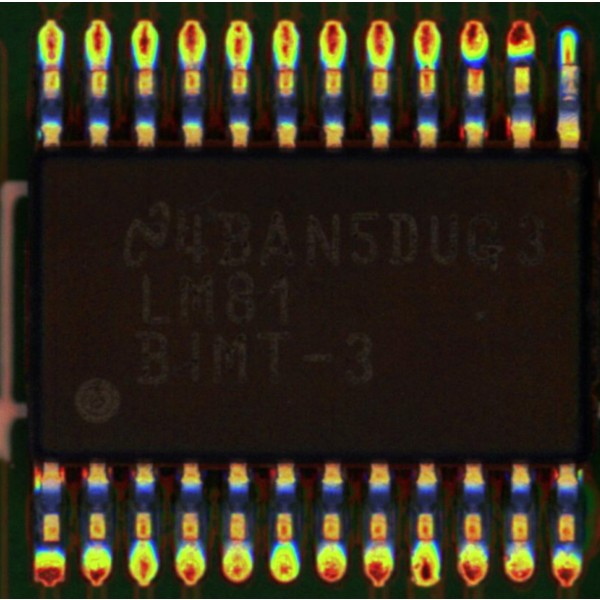Bad_podu: (561, 46, 576, 75)
